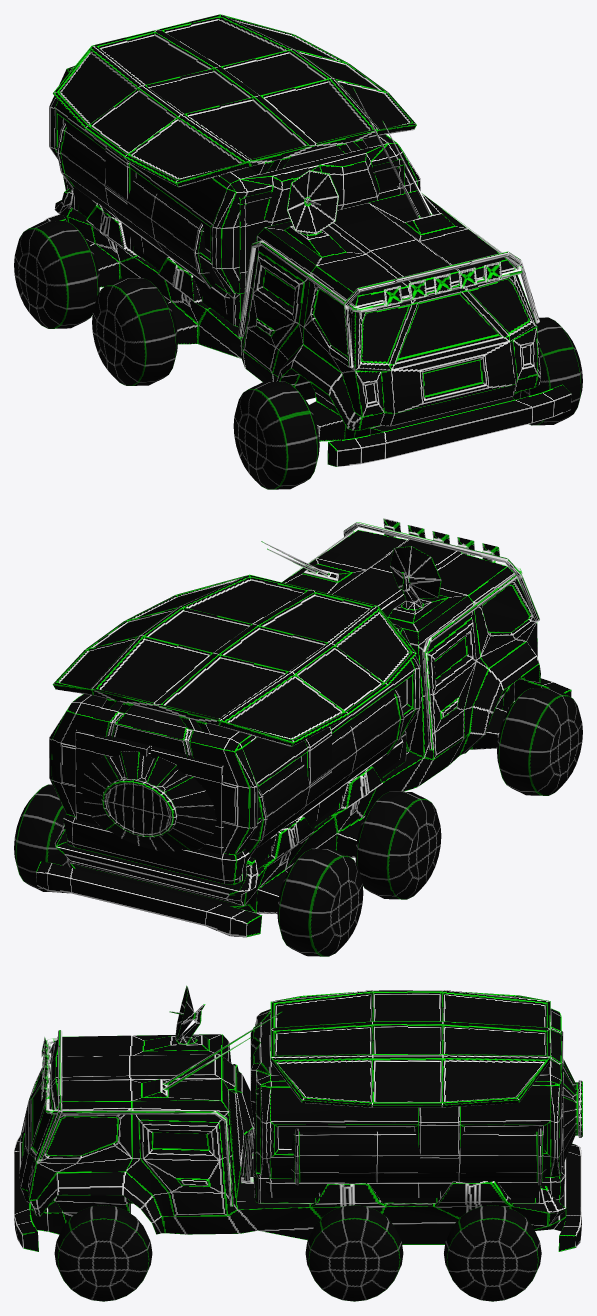
File: Rover_Truck.FBX
3 views of the same model, one above another, from view 1: azimuth 30°, elevation 25°; view 2: azimuth 150°, elevation 25°; view 3: azimuth 270°, elevation 25° (orthographic). The views are drawn at different scales.
Parts seen in each view (by area): view 1: body, lab, wheel_front_R, wheel_back1_R, wheel_back2_R, cargotank, wheel_front_L, cargobox, satelite; view 2: lab, body, cargotank, wheel_back2_R, wheel_front_R, wheel_back1_R, cargobox, wheel_back2_L, satelite; view 3: body, lab, cargotank, wheel_back1_L, wheel_front_L, wheel_back2_L, cargobox, satelite.
Boxes of the visible parts, x1,y1,x2,y2 form: body: [43, 87, 571, 466]; lab: [49, 14, 420, 314]; wheel_front_R: [233, 381, 319, 489]; wheel_back1_R: [92, 278, 177, 385]; wheel_back2_R: [14, 221, 99, 328]; cargotank: [56, 123, 214, 289]; wheel_front_L: [512, 317, 582, 425]; cargobox: [70, 158, 404, 327]; satelite: [287, 170, 338, 235]; lab: [49, 574, 420, 885]; body: [36, 518, 571, 937]; cargotank: [81, 689, 404, 855]; wheel_back2_R: [277, 848, 363, 956]; wheel_front_R: [497, 688, 582, 795]; wheel_back1_R: [355, 791, 441, 899]; cargobox: [75, 729, 406, 883]; wheel_back2_L: [14, 784, 73, 891]; satelite: [390, 546, 441, 610]; body: [14, 1011, 581, 1251]; lab: [250, 990, 565, 1202]; cargotank: [291, 1059, 582, 1185]; wheel_back1_L: [305, 1205, 403, 1301]; wheel_front_L: [54, 1205, 152, 1301]; wheel_back2_L: [444, 1205, 541, 1301]; cargobox: [255, 1020, 563, 1203]; satelite: [169, 985, 205, 1044].
Bounding box in the file's own units: 4.79 × 8.5 × 4.11.
